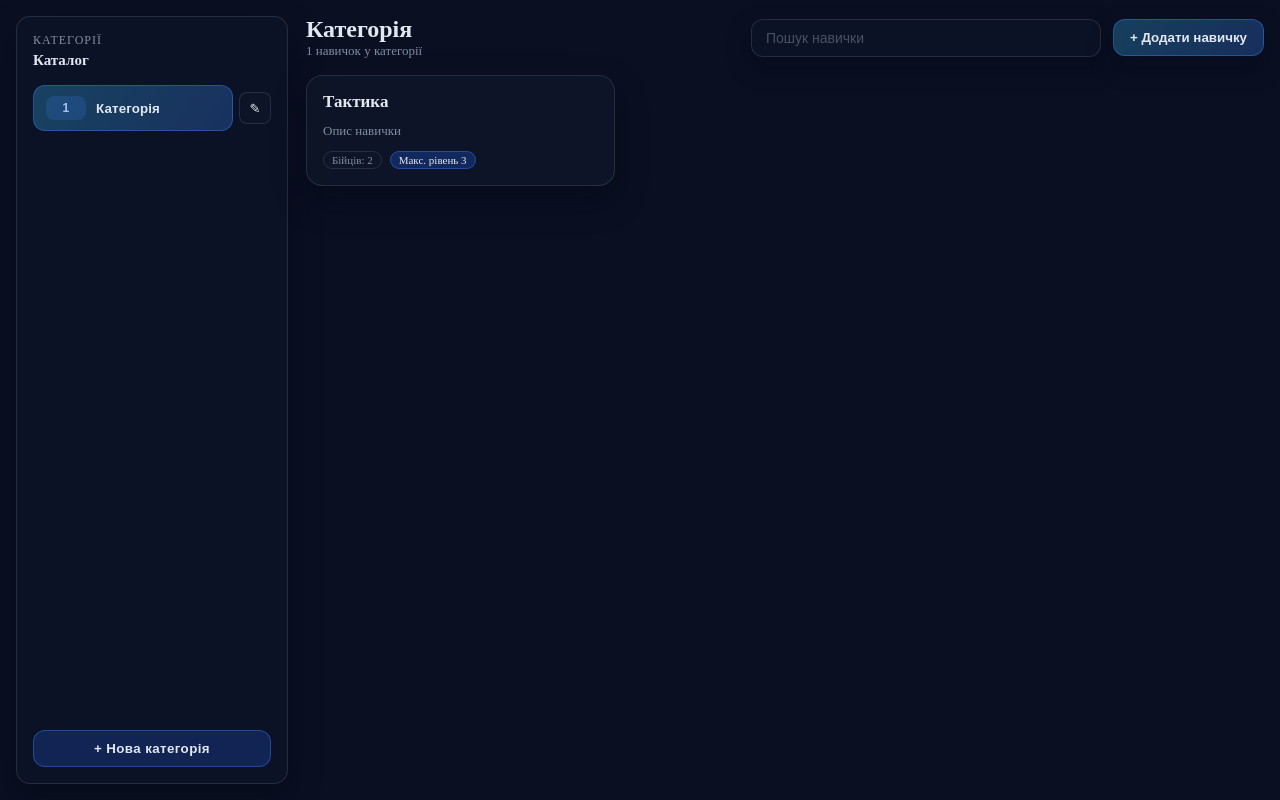
Skills page › opens skill detail modal with statistics when card clicked
This screenshot has width=1280, height=800.
Click the text "Тактика".
click(356, 102)  # box [323,92,388,111]
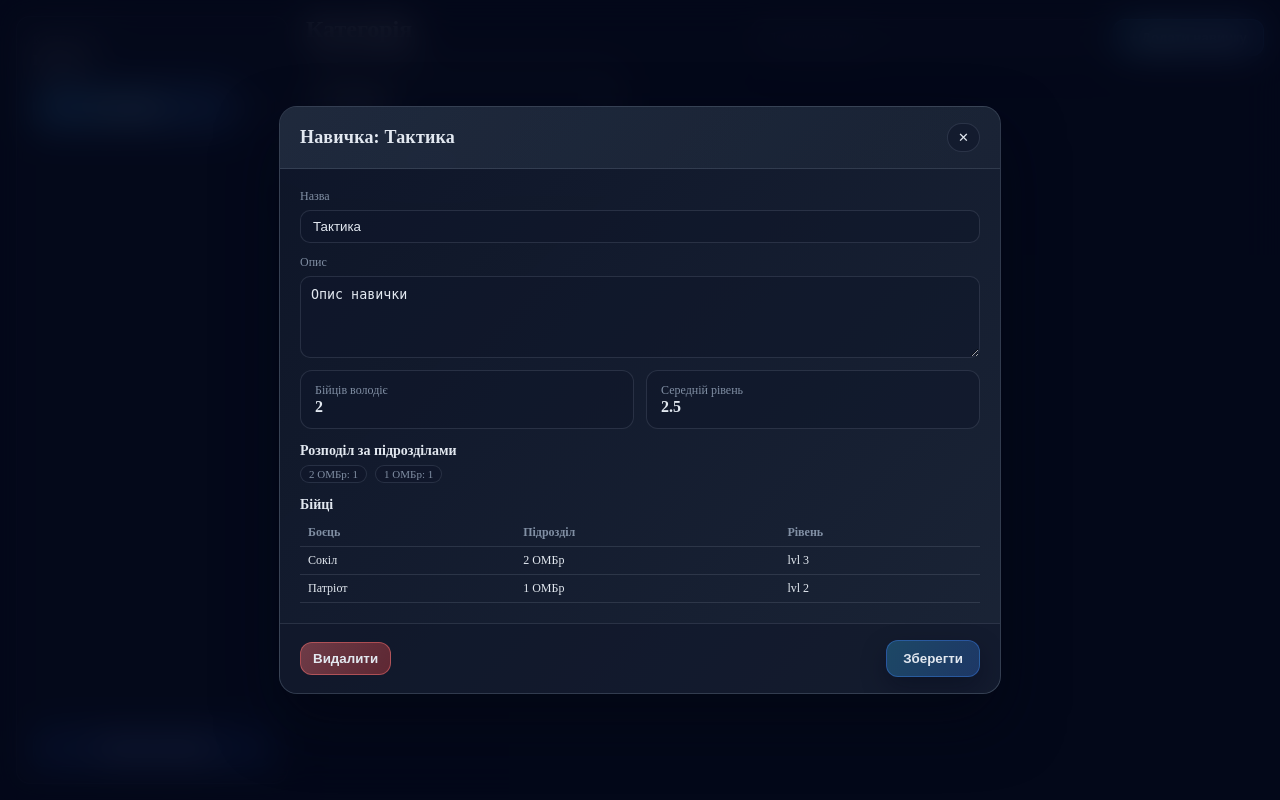
Expected: the text "Навичка: Тактика" is shown, [300,127,455,147]
Expected: the field showing "Тактика" is shown, [300,210,980,243]
Expected: the text box showing "Опис навички" is shown, [300,276,980,358]
